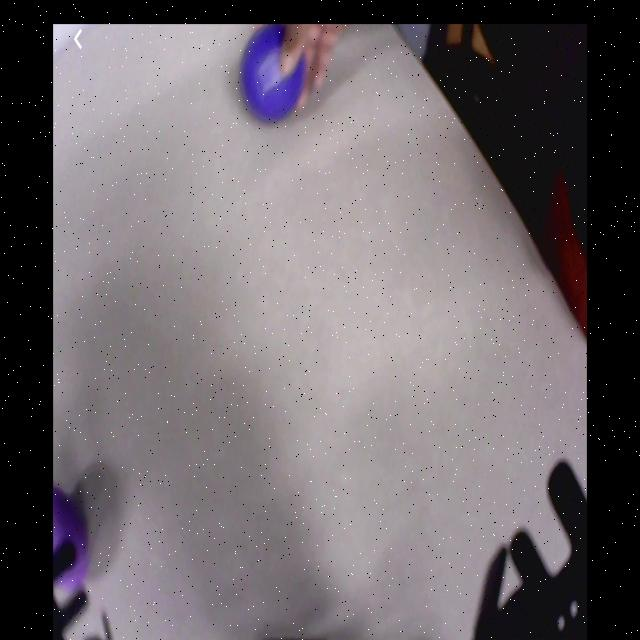ball: (241, 27, 307, 123), (55, 488, 89, 589)
